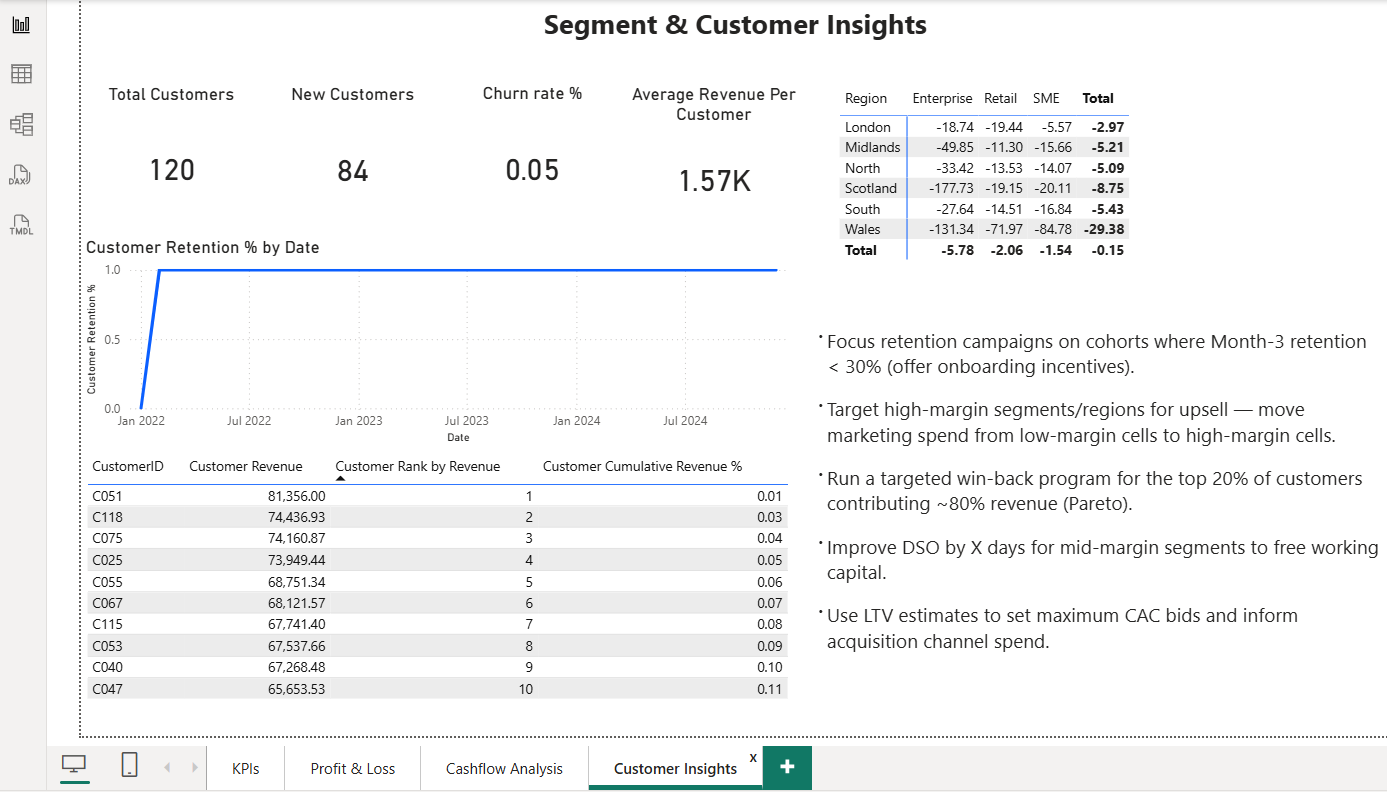

Layout of this report page (visuals, bound fields, positions):
{"tool":"powerbi","page":{"name":"Customer Insights","canvas":[1280,720],"ordinal":3},"visuals":[{"type":"textbox","box":[0,0,1280.3,82.3],"z":0},{"type":"kpi","title":"Total Customers ","fields":{"TrendLine":["Date.Date"],"Indicator":["Count(Customer.CustomerID)"]},"box":[0,82.2,176.8,148],"z":1000},{"type":"kpi","title":"New Customers","fields":{"Indicator":["Customer.New Customers"],"TrendLine":["Date.Date"]},"box":[176.8,82.2,176.8,149.4],"z":2000},{"type":"kpi","title":"Churn rate % ","fields":{"Indicator":["Customer.Churn rate %"],"TrendLine":["Date.Date"]},"box":[353.7,80.9,176.8,149.4],"z":3000},{"type":"kpi","title":"Average Revenue Per Customer ","fields":{"Indicator":["Customer.Average Revenue Per Customer"],"TrendLine":["Date.Date"]},"box":[530.5,82.2,176.8,149.4],"z":4000},{"type":"lineChart","fields":{"Category":["Date.Date"],"Y":["Customer.Customer Retention %"]},"box":[0,231.7,707.3,208.4],"z":5000},{"type":"pivotTable","fields":{"Rows":["Customer.Region"],"Columns":["Customer.Segment"],"Values":["Revenue.Gross Margin %"]},"box":[737.5,79.5,542.8,198.8],"z":6000},{"type":"tableEx","fields":{"Values":["Revenue.CustomerID","Customer.Customer Revenue","Customer.Customer Rank by Revenue","Customer.Customer Cumulative Revenue %"]},"box":[0,440,707.3,279.6],"z":7000},{"type":"textbox","box":[707.3,279.6,573,440],"z":7001}]}

Visuals, with their boxes on the page's 1280x720 design canvas (x1, y1, x2, y2). These are canvas units, not pixel positions in the 1387x792 screenshot, which may show the page scaled, cropped or inside an application window:
textbox: 0 0 1280 82
"Total Customers " kpi: 0 82 177 230
"New Customers" kpi: 177 82 354 232
"Churn rate % " kpi: 354 81 530 230
"Average Revenue Per Customer " kpi: 530 82 707 232
lineChart - Date.Date x Customer.Customer Retention %: 0 232 707 440
pivotTable - Customer.Region x Customer.Segment: 738 80 1280 278
tableEx - Revenue.CustomerID x Customer.Customer Revenue: 0 440 707 720
textbox: 707 280 1280 720
